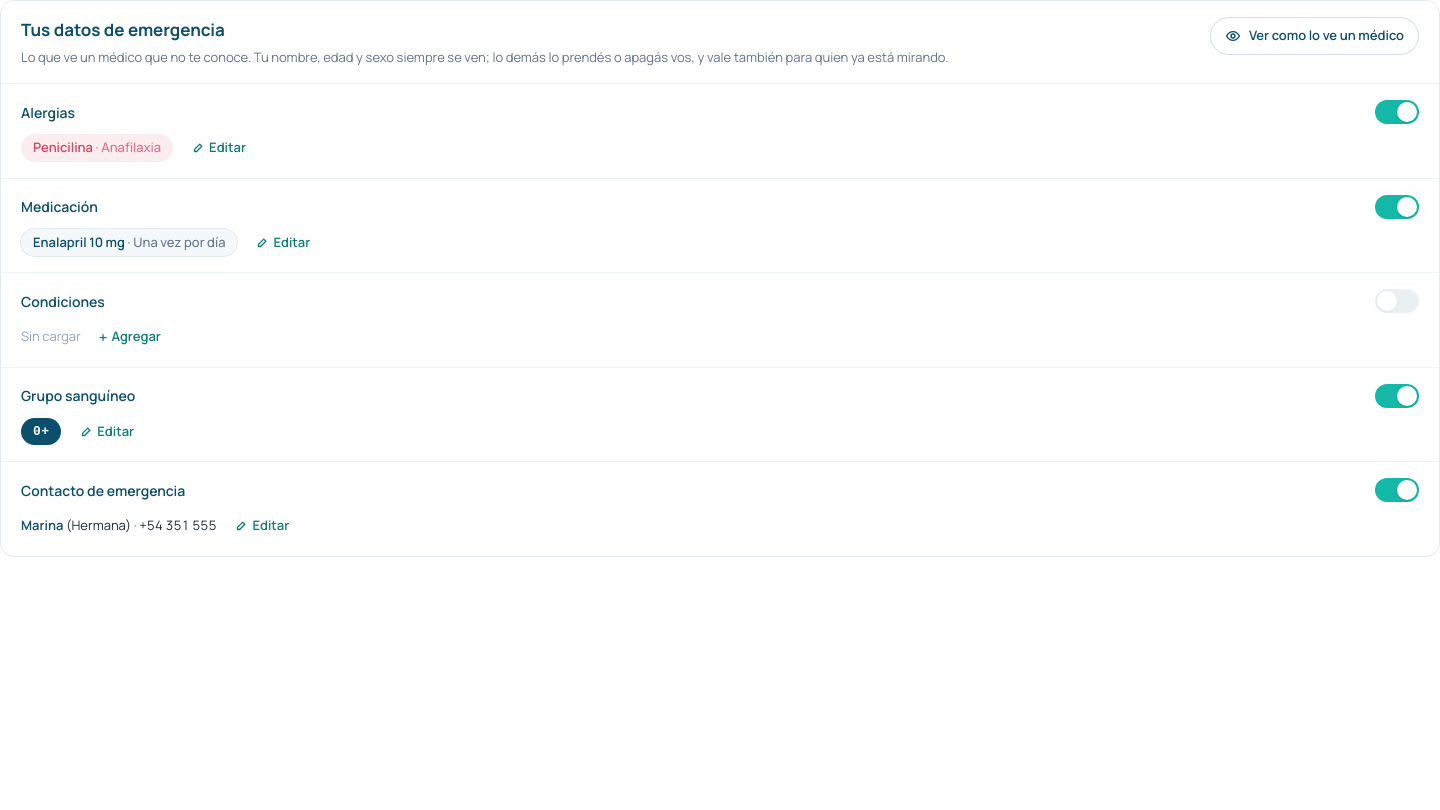
EmergencyData › si falla, vuelve atrás y lo dice
Click the switch named "Alergias" in the row of "Alergias".
click(1397, 112)  # box [1375,100,1419,124]
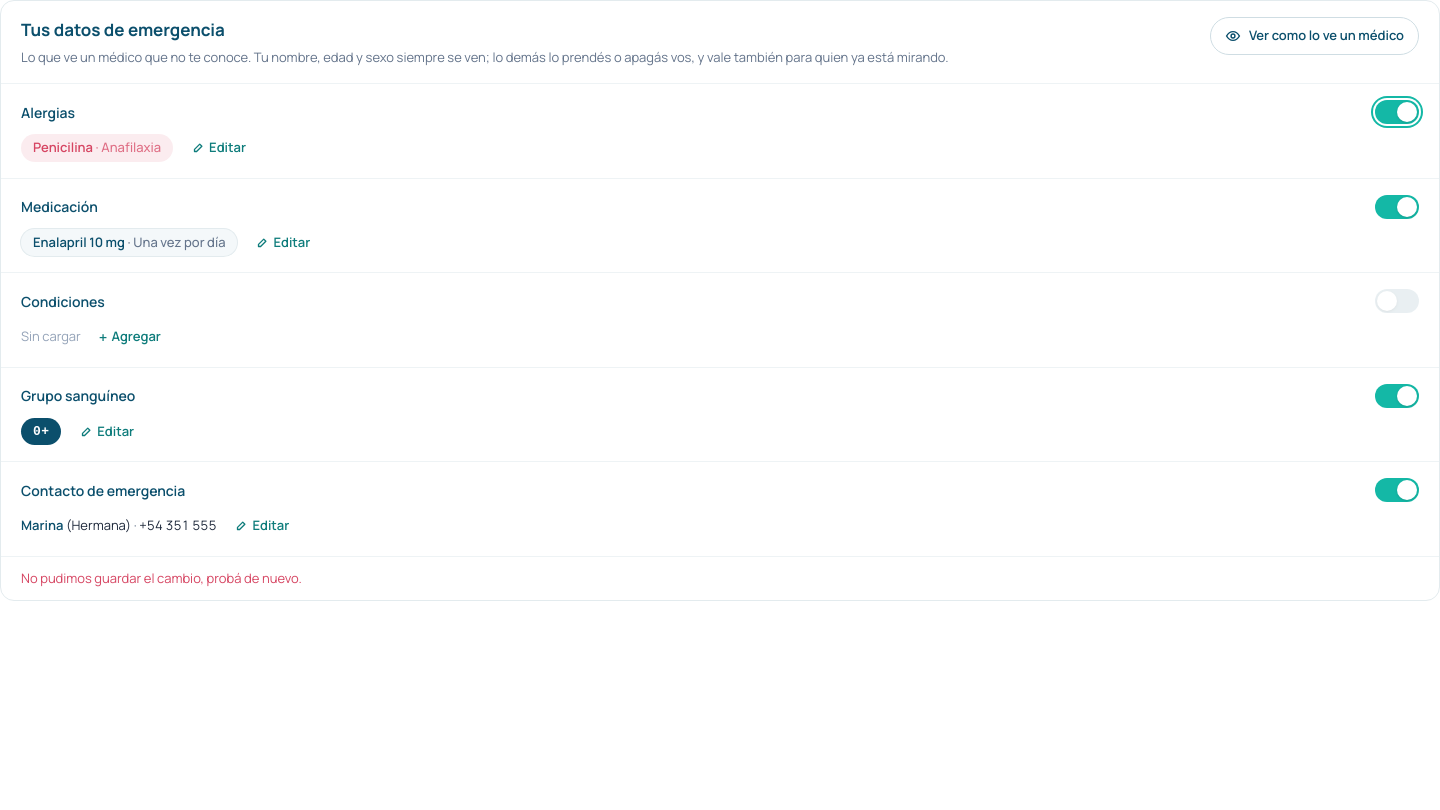
Now the message shows "No pudimos guardar el cambio", box [21,569,302,587]
